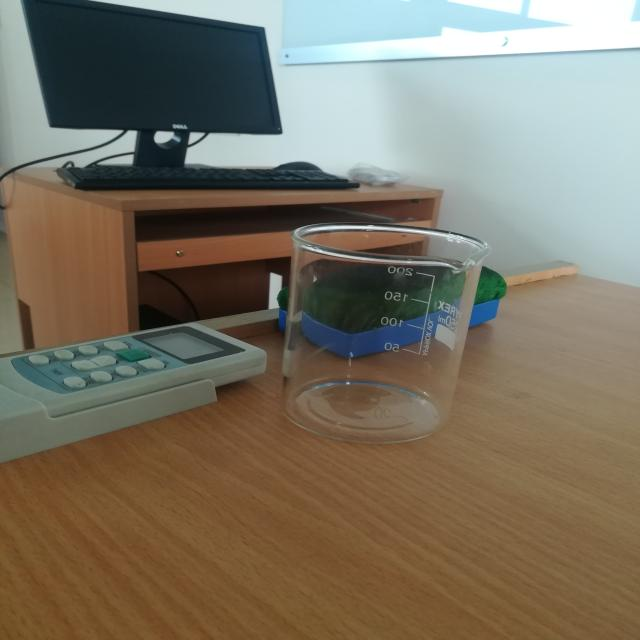Beaker: (233, 184, 531, 464)
